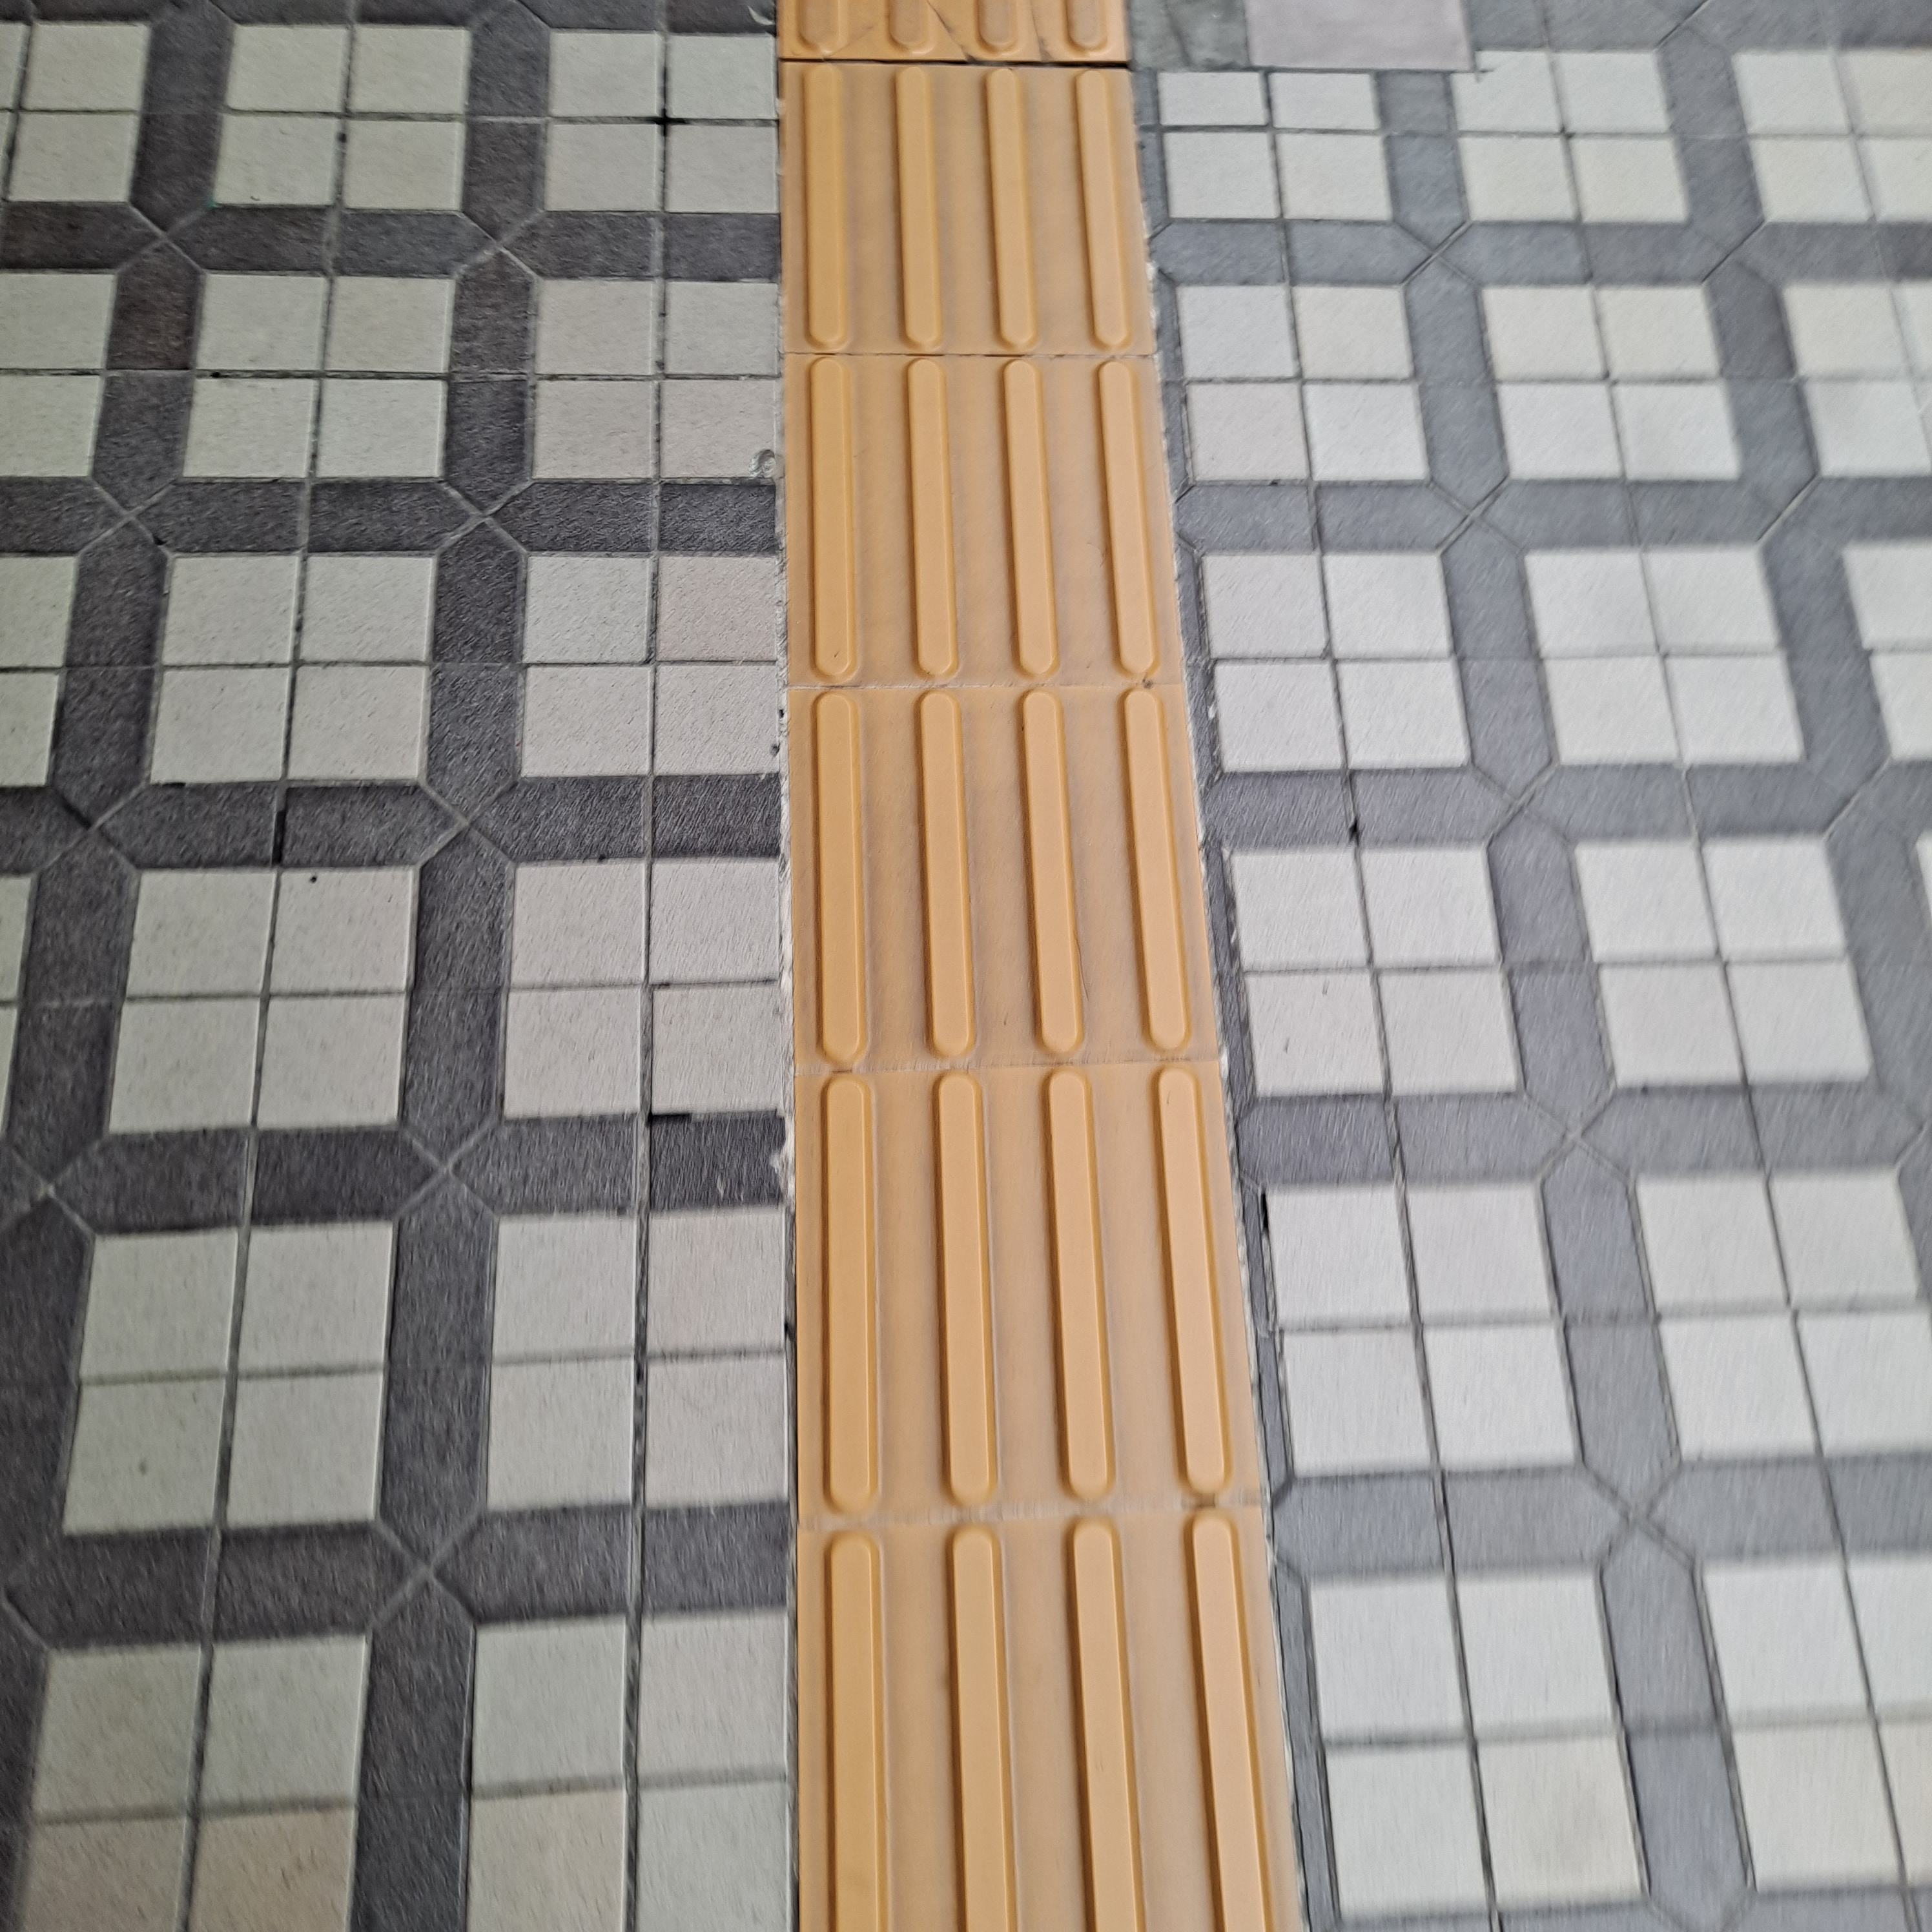guideBlock: (807, 1518, 1272, 1932), (801, 1056, 1237, 1484), (796, 363, 1231, 784), (803, 662, 1184, 1097), (777, 53, 1108, 373)
